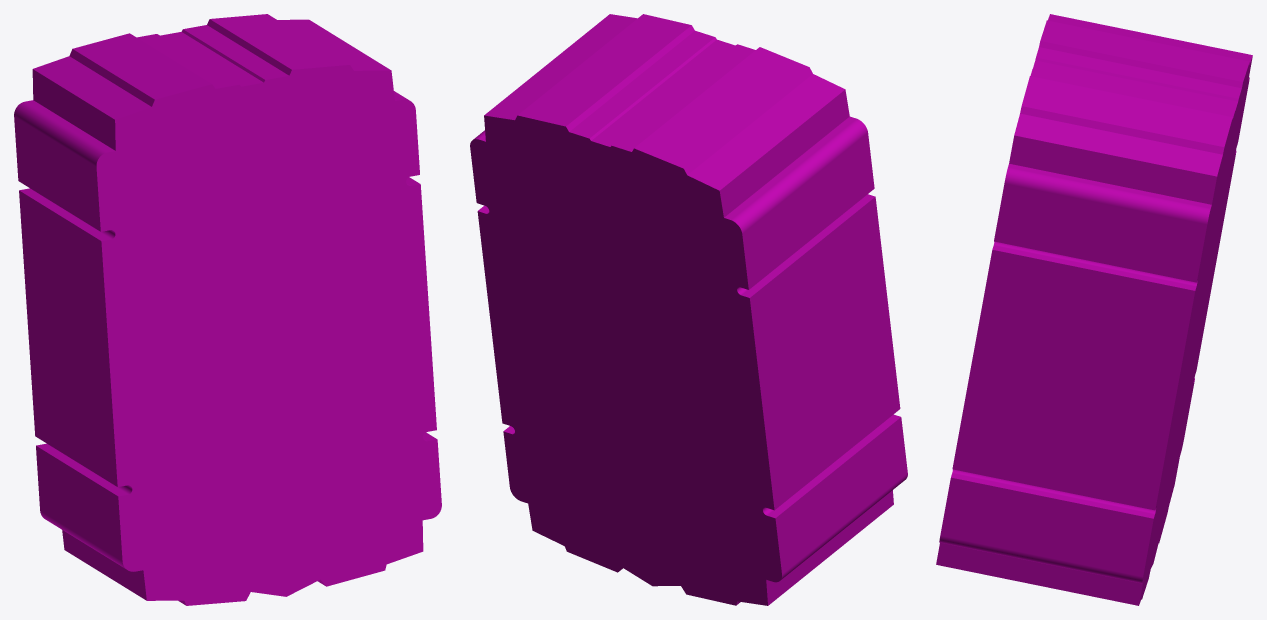
Rendered from POWER ARCHITECTURE__ELEC BOARD COMPONENTS__COTEK SP-3000 (3000W) inverter.glb.
3 renders of one model, left to right at view 1: azimuth 30°, elevation 25°; view 2: azimuth 150°, elevation 25°; view 3: azimuth 270°, elevation 25°, orthographic. The views are drawn at different scales.
Bounding box in the file's own units: 0.2784 × 0.4198 × 0.2416.
